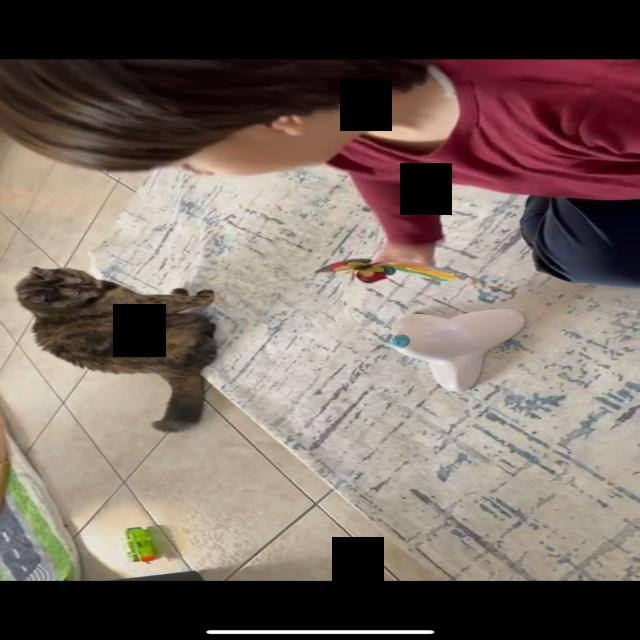authorized: (13, 266, 218, 432)
